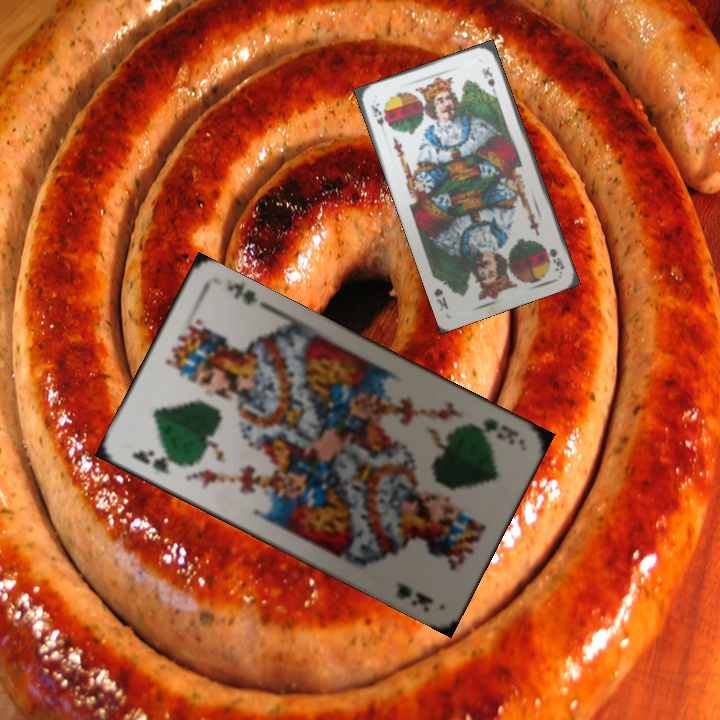GK: (127, 446, 184, 477), (479, 414, 522, 448)
SK: (366, 99, 389, 137), (544, 244, 567, 274)
